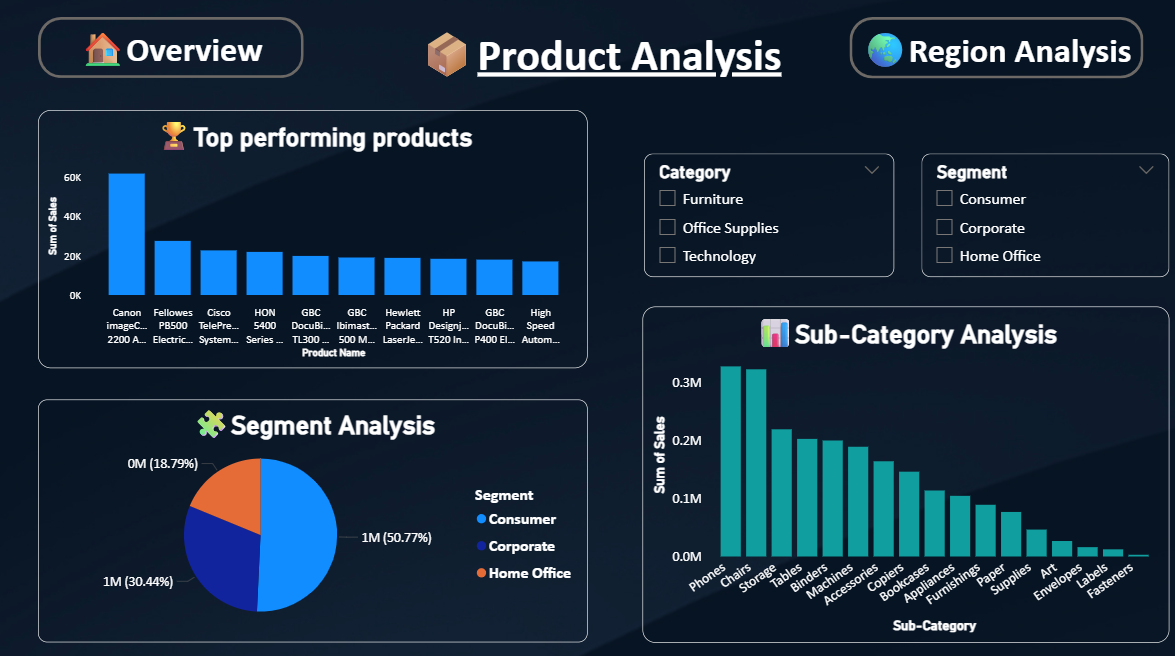

This screenshot's page, from the dashboard's own definition file:
{"tool":"powerbi","page":{"name":"Product Analysis","canvas":[1280,720],"ordinal":1},"visuals":[{"type":"columnChart","title":"🏆Top performing products","fields":{"Category":["train.Product Name"],"Y":["Sum(train.Sales)"]},"box":[43.1,127.5,596.3,279.9],"z":0},{"type":"textbox","box":[354.5,26.5,568.2,79.5],"z":1000},{"type":"clusteredColumnChart","title":"📊Sub-Category Analysis","fields":{"Category":["train.Sub-Category"],"Y":["Sum(train.Sales)"]},"box":[697.4,339.6,571.5,364.4],"z":2000},{"type":"pieChart","title":"🧩Segment Analysis","fields":{"Category":["train.Segment"],"Y":["Sum(train.Sales)"]},"box":[43.1,440.6,596.3,263.4],"z":3000},{"type":"slicer","fields":{"Values":["train.Category"]},"box":[699,173.9,271.7,134.2],"z":4000},{"type":"slicer","fields":{"Values":["train.Segment"]},"box":[1000.5,173.9,268.3,134.2],"z":5000},{"type":"actionButton","box":[43.1,26.5,288.2,66.3],"z":6000},{"type":"actionButton","box":[922.3,26,318.8,66.7],"z":7000}]}

Visuals, with their boxes in screenshot pixels (x1, y1, x2, y2), scaled from the page's 1280x720 canvas onto the 1175x656 screenshot:
"🏆Top performing products" columnChart: {"x1": 40, "y1": 116, "x2": 587, "y2": 371}
textbox: {"x1": 325, "y1": 24, "x2": 847, "y2": 97}
"📊Sub-Category Analysis" clusteredColumnChart: {"x1": 640, "y1": 309, "x2": 1165, "y2": 641}
"🧩Segment Analysis" pieChart: {"x1": 40, "y1": 401, "x2": 587, "y2": 641}
slicer - train.Category: {"x1": 642, "y1": 158, "x2": 891, "y2": 281}
slicer - train.Segment: {"x1": 918, "y1": 158, "x2": 1165, "y2": 281}
actionButton: {"x1": 40, "y1": 24, "x2": 304, "y2": 85}
actionButton: {"x1": 847, "y1": 24, "x2": 1139, "y2": 84}
